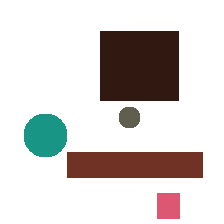circle: (24, 114, 66, 156), (119, 107, 139, 127)
rectangle: (100, 31, 178, 100), (67, 152, 202, 177), (157, 193, 179, 218)
